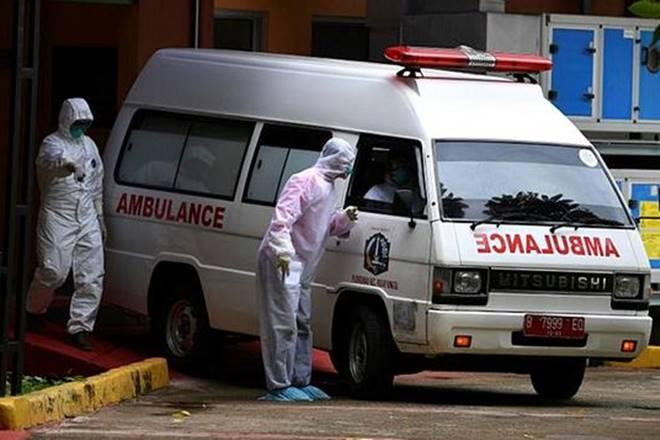Emergency-Vehicles: (61, 27, 656, 421)
